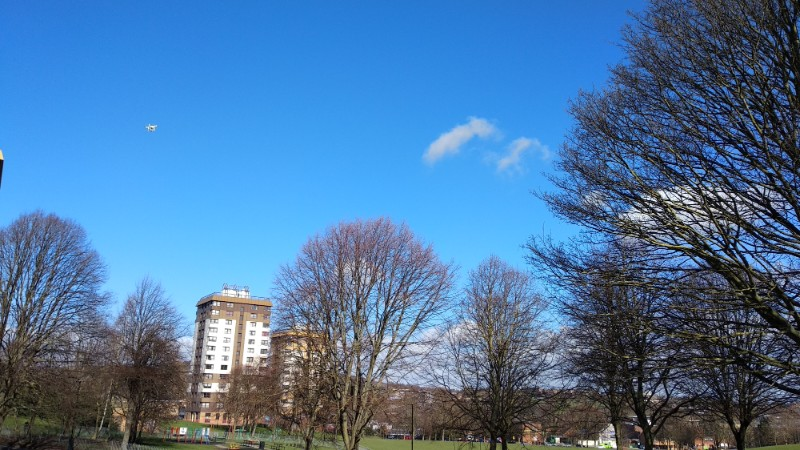drone: (144, 121, 157, 132)
